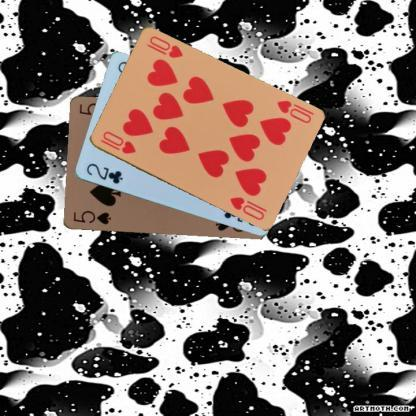10h: (98, 128, 138, 156), (273, 98, 313, 124)
2c: (83, 160, 124, 186)
5s: (70, 208, 112, 226)
